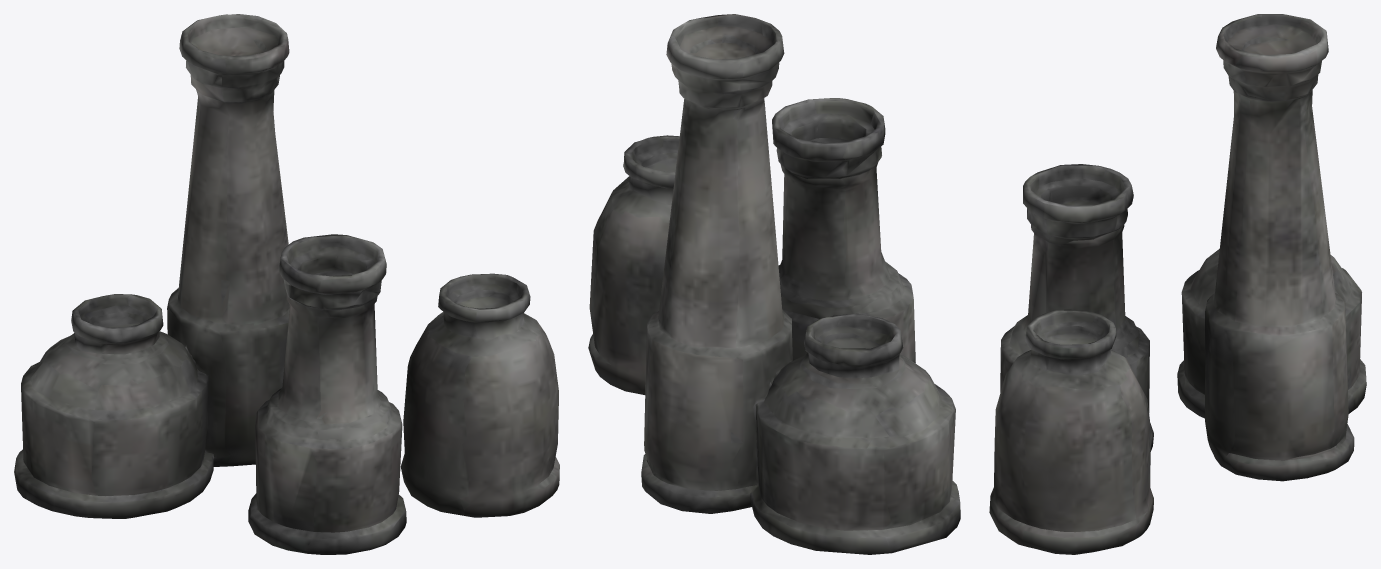
The model's file is old-granite-chimney-stack-v003.glb.
3 renders of one model, left to right at view 1: azimuth 30°, elevation 25°; view 2: azimuth 150°, elevation 25°; view 3: azimuth 270°, elevation 25°, orthographic. The views are drawn at different scales.
Visible parts, largest first — view 1: old-granite-chimney-stack; view 2: old-granite-chimney-stack; view 3: old-granite-chimney-stack.
Part boxes in pixels (x1,y1,x2,y2): old-granite-chimney-stack: [14, 14, 559, 554]; old-granite-chimney-stack: [588, 14, 960, 554]; old-granite-chimney-stack: [989, 14, 1366, 554].
Bounding box in the file's own units: 2.06 × 1.93 × 1.58.
1 material, 1 textured.
